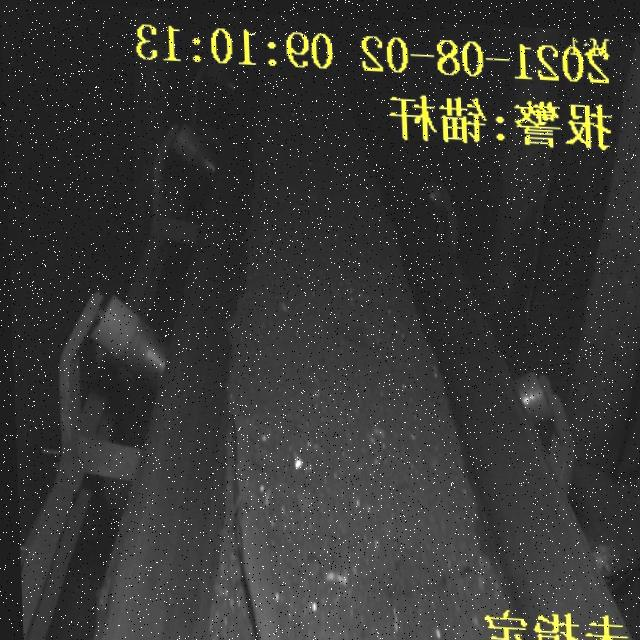bolt: (219, 408, 278, 640)
